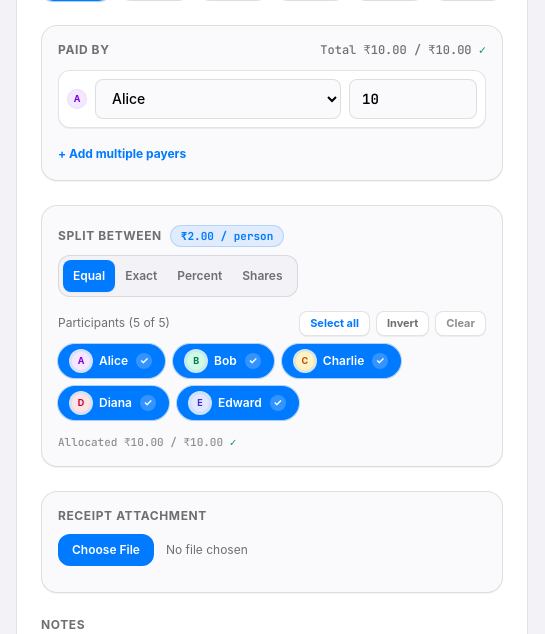
Test: Adversarial Stress Testing: Interactive State Machines & User Events › 2. Participant Chip Combinations and Boundary States › handles Clearing all participants (0 participants) without NaN or crash, then re-selecting
(page scrolled)
Click the button "Clear": (461, 324) [435,311,486,336]
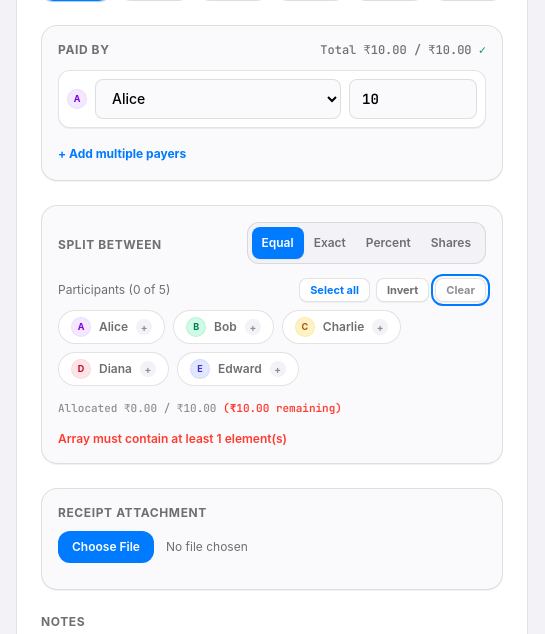
expect the text "Participants (0 of 5)" is shown: met, box [58,282,170,298]
expect the text "Allocated ₹0.00 / ₹10.00 (₹10.00 remaining)" is shown: met, box [58,401,342,415]
Note: Switch modes while 0 participants are selected (adversarial boundary check)
Click the button "exact": (330, 243) [304,227,356,259]
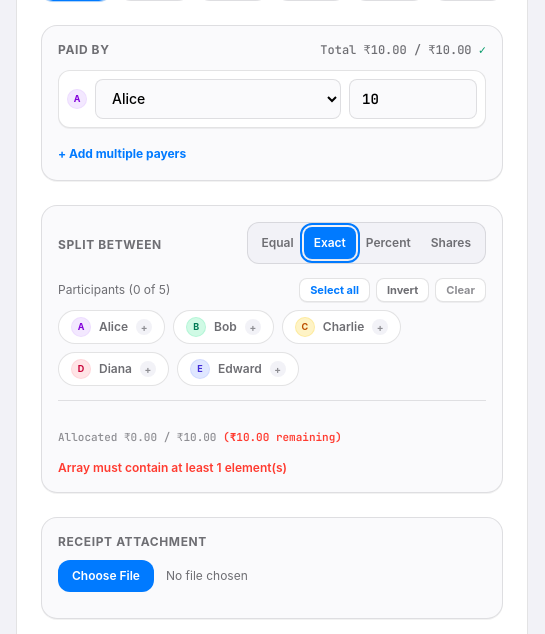
Click the button "percent": (388, 243) [356,227,421,259]
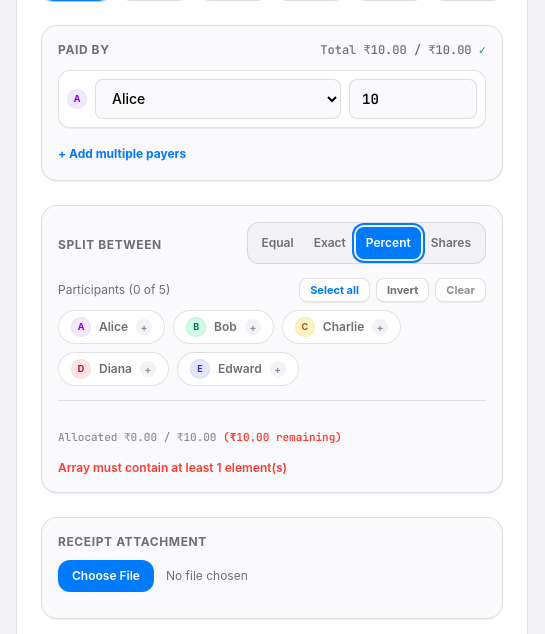
Click the button "shares": (451, 243) [421,227,481,259]
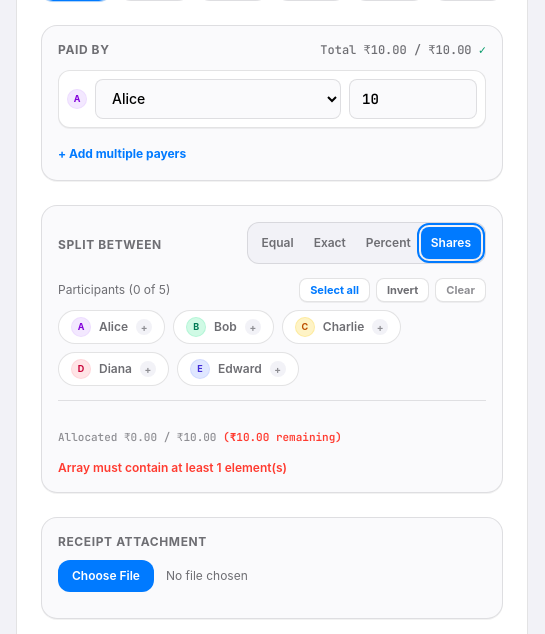
Click the button "equal": (278, 243) [252,227,304,259]
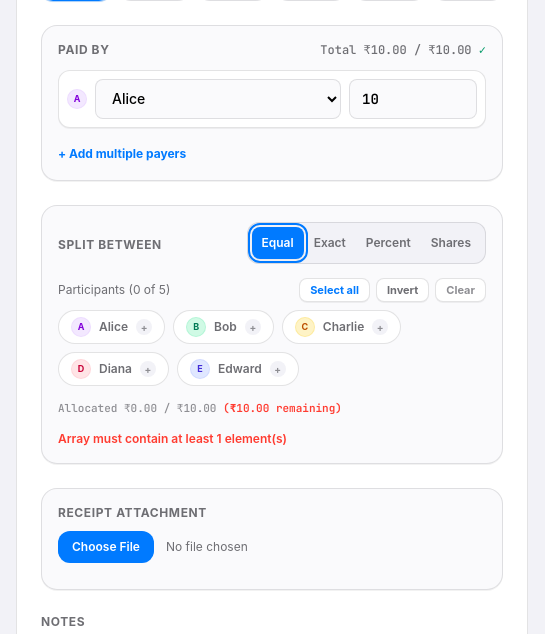
Note: Select all
Click the button "Select all": (335, 290) [299,278,370,302]
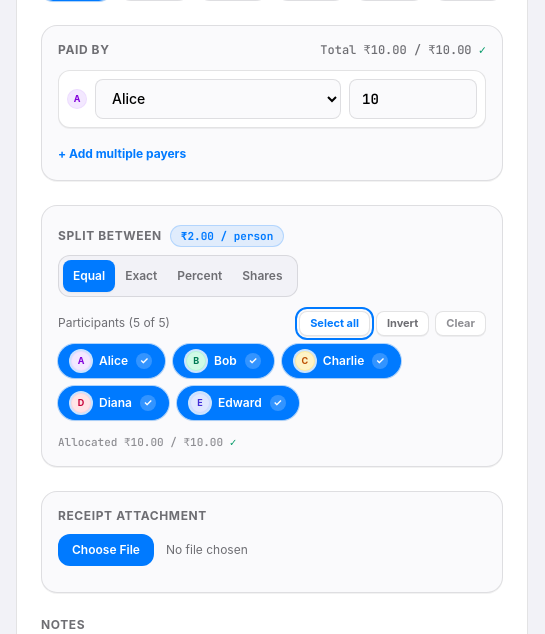
expect the text "Participants (5 of 5)" is shown: met, box [58,316,170,332]
expect the text "Allocated ₹10.00 / ₹10.00 ✓" is shown: met, box [58,435,236,449]
